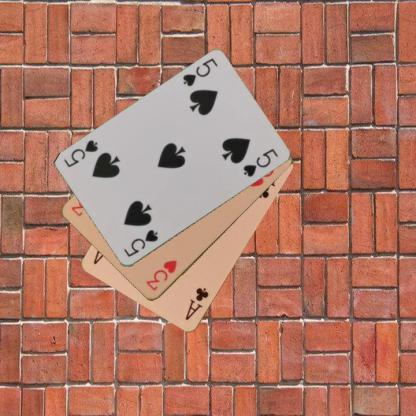3h: (143, 258, 178, 293)
5s: (180, 56, 219, 88), (121, 227, 159, 259)
Ac: (183, 285, 210, 322)
